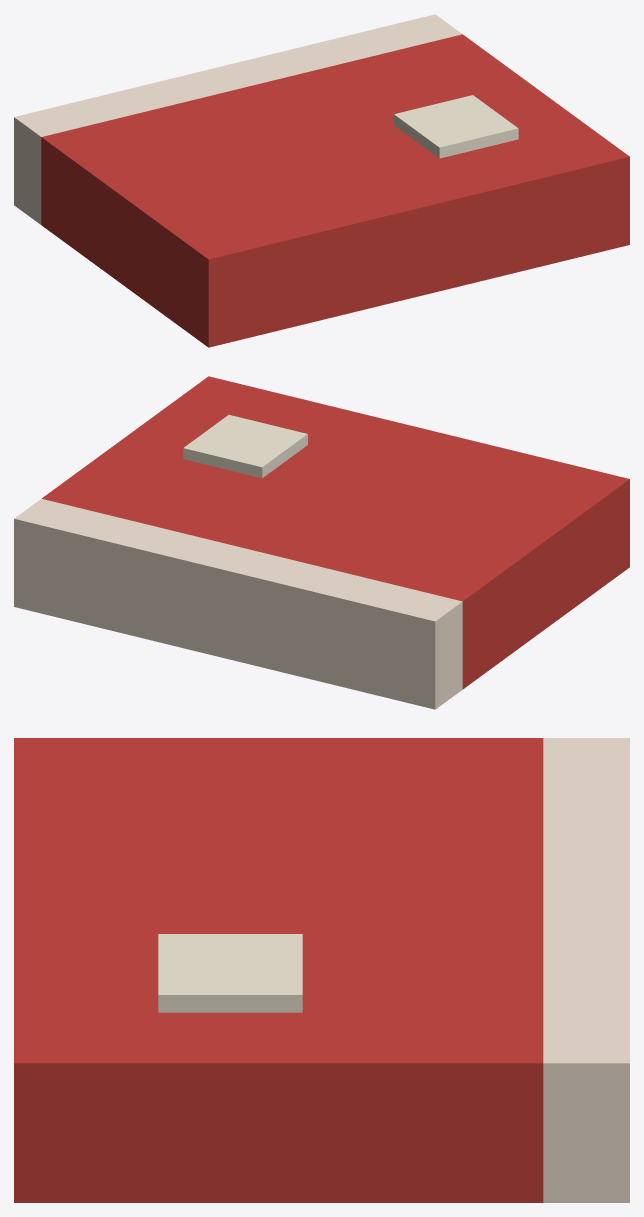
Rendered from CowMeat.glb.
3 views of the same model, one above another, from view 1: azimuth 30°, elevation 25°; view 2: azimuth 150°, elevation 25°; view 3: azimuth 270°, elevation 25° (orthographic). The views are drawn at different scales.
Visible parts, largest first — view 1: Steak, Fat, Bone; view 2: Steak, Fat, Bone; view 3: Steak, Fat, Bone.
Boxes of the visible parts, left/top/right/bottom form: Steak: left=41, top=34, right=629, bottom=347; Fat: left=14, top=14, right=462, bottom=224; Bone: left=394, top=95, right=518, bottom=158; Steak: left=42, top=376, right=629, bottom=689; Fat: left=14, top=498, right=462, bottom=709; Bone: left=183, top=415, right=307, bottom=478; Steak: left=14, top=738, right=543, bottom=1202; Fat: left=543, top=738, right=629, bottom=1202; Bone: left=158, top=934, right=302, bottom=1012.
Bounding box in the file's own units: 1.6 × 0.36 × 1.28.
